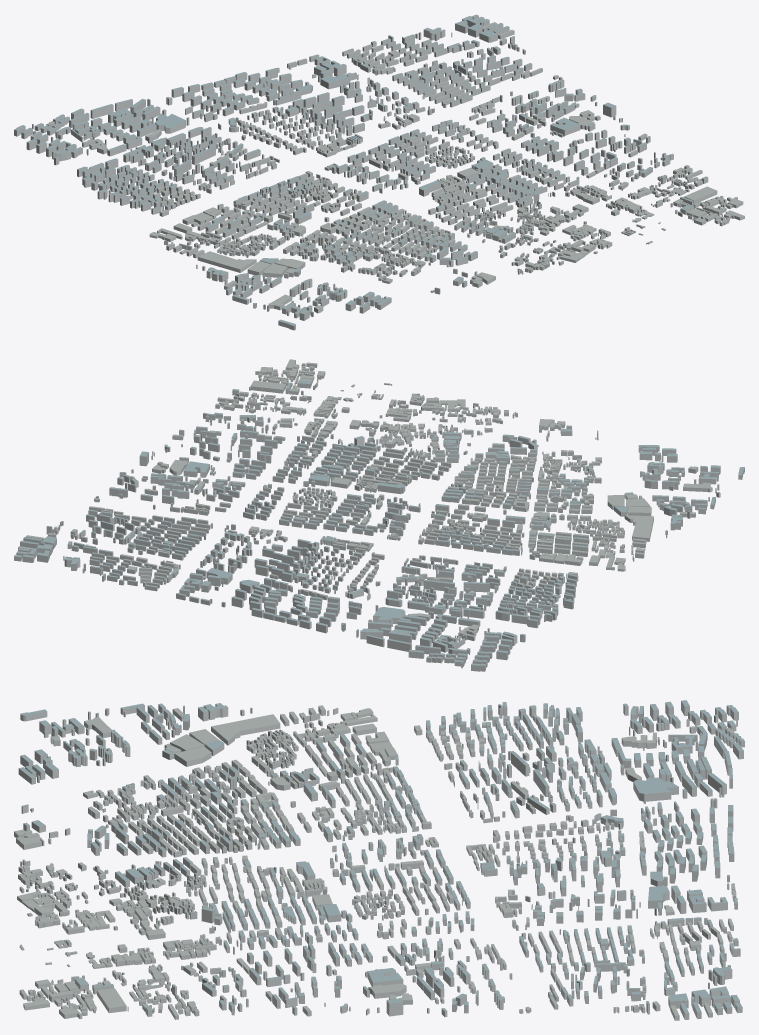
The model's file is far.glb.
The picture shows the model from 3 angles, top to bottom: view 1: azimuth 30°, elevation 25°; view 2: azimuth 150°, elevation 25°; view 3: azimuth 270°, elevation 25°; orthographic projection. The views are drawn at different scales.
Size of the model in its own units: 2147 by 40.87 by 2129.
